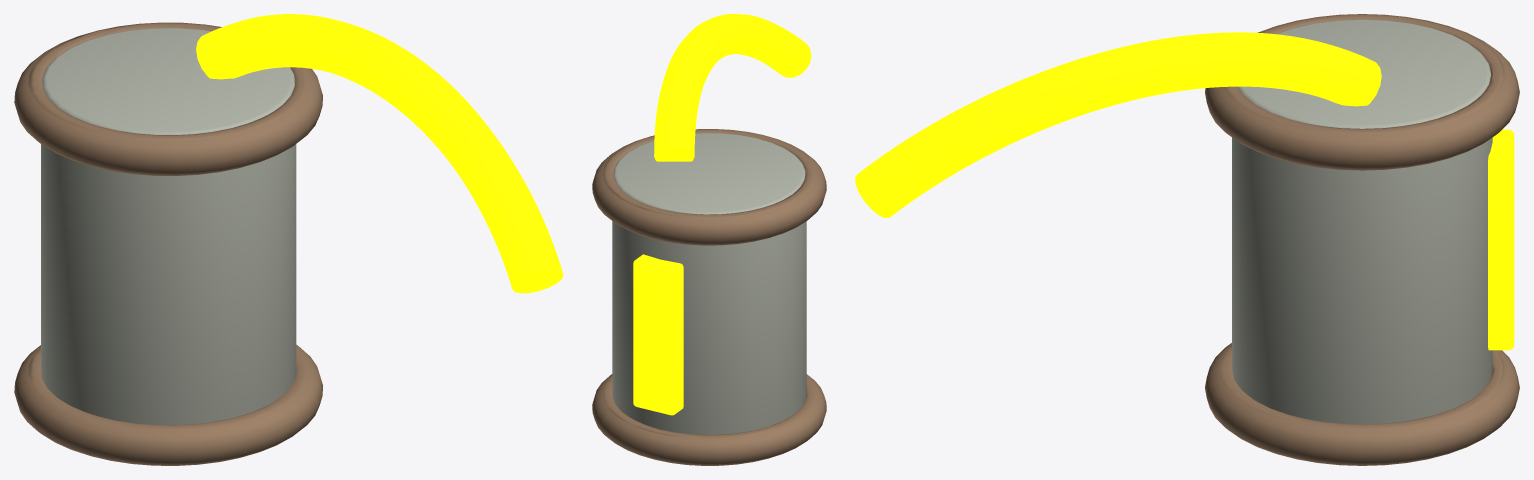
The model's file is singed_tank.glb.
The picture shows the model from 3 angles, left to right: view 1: azimuth 30°, elevation 25°; view 2: azimuth 150°, elevation 25°; view 3: azimuth 270°, elevation 25°; orthographic projection. The views are drawn at different scales.
Visible parts, largest first — view 1: singed_tank; view 2: singed_tank; view 3: singed_tank.
Part boxes in pixels (x1=…): singed_tank: x1=14, y1=14, x2=563, y2=465; singed_tank: x1=592, y1=14, x2=826, y2=465; singed_tank: x1=855, y1=14, x2=1519, y2=465.
Size of the model in its own units: 0.3151 by 0.4284 by 0.6119.
